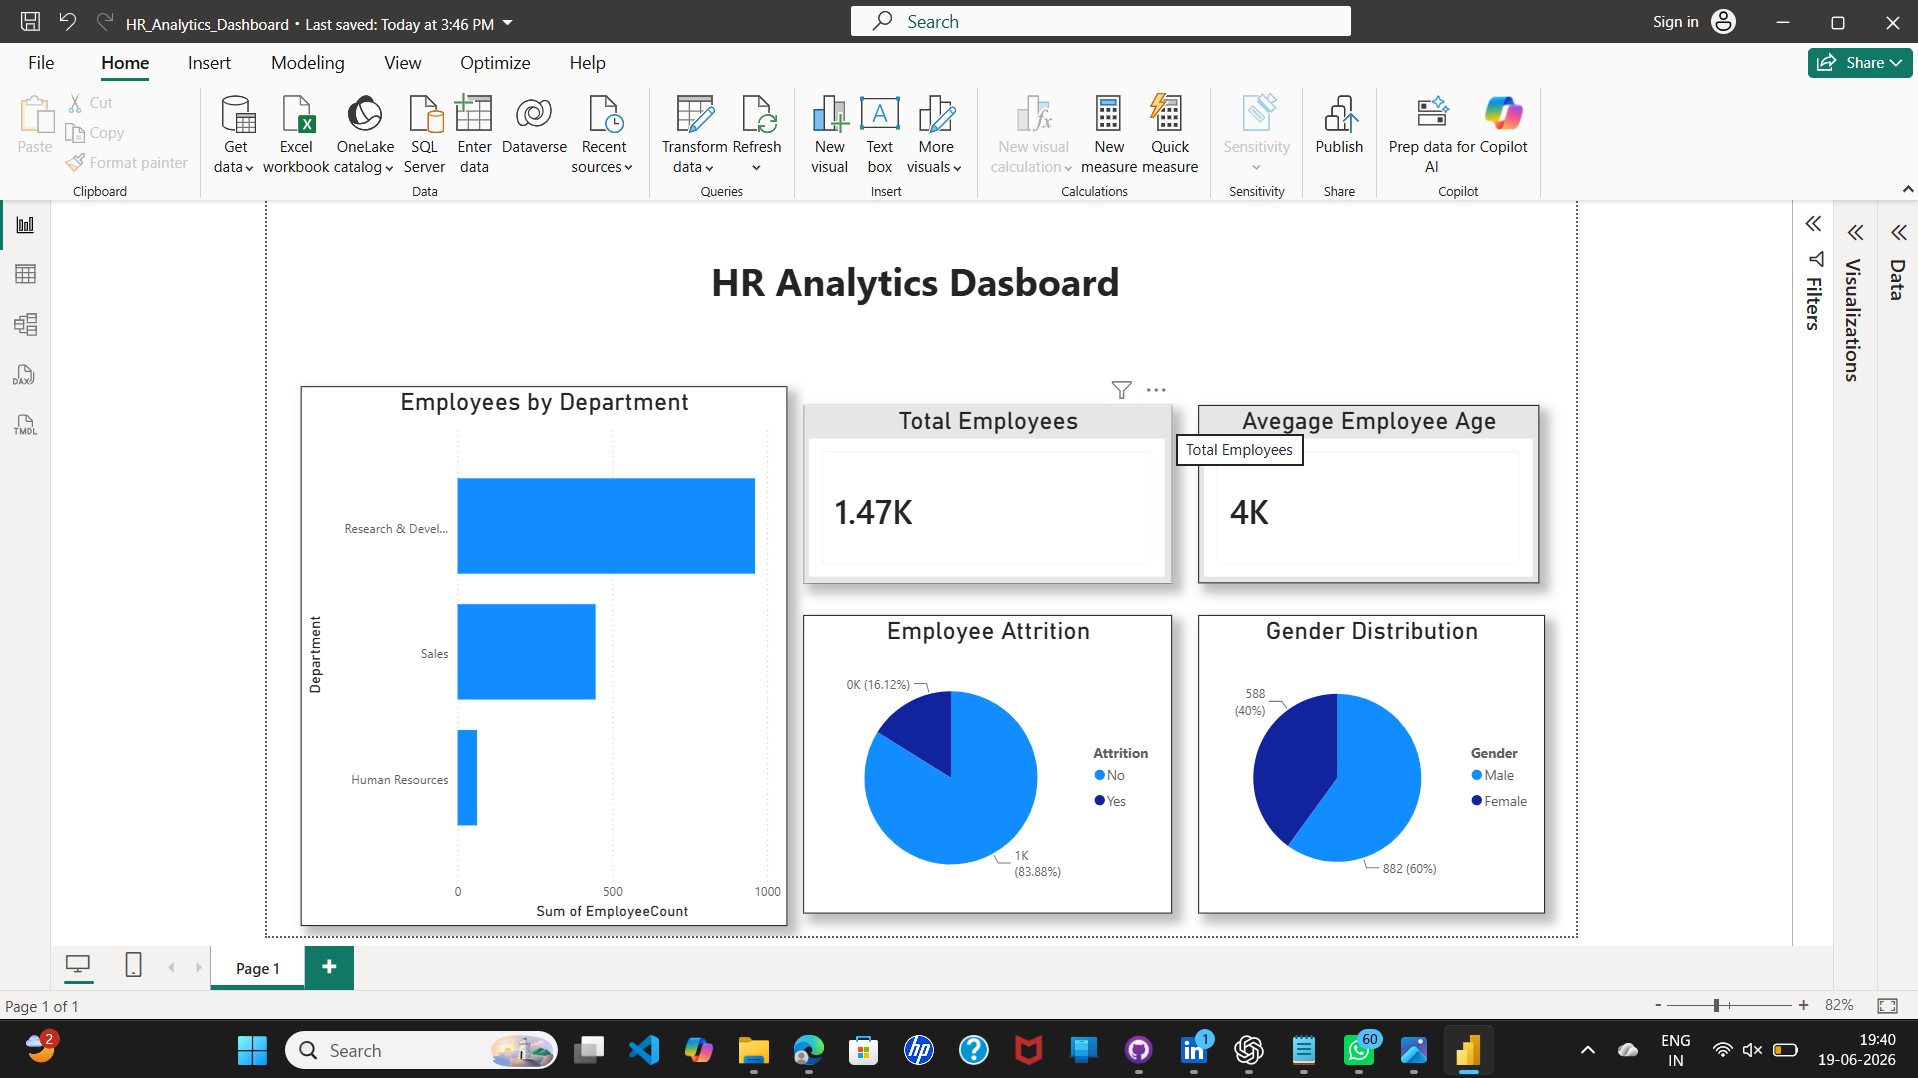

The page's visual inventory and layout, read from the dashboard file:
{"tool":"powerbi","page":{"name":"Page 1","canvas":[1280,720],"ordinal":0},"visuals":[{"type":"pieChart","title":"Gender Distribution","fields":{"Category":["WA_Fn-UseC_-HR-Employee-Attrition.Gender"],"Y":["Sum(WA_Fn-UseC_-HR-Employee-Attrition.EmployeeCount)"]},"box":[911.2,406.2,338.9,292.3],"z":0},{"type":"clusteredBarChart","title":"Employees by Department","fields":{"Category":["WA_Fn-UseC_-HR-Employee-Attrition.Department"],"Y":["Sum(WA_Fn-UseC_-HR-Employee-Attrition.EmployeeCount)"]},"box":[20.6,170.2,476.2,528.3],"z":1000},{"type":"pieChart","title":"Employee Attrition ","fields":{"Category":["WA_Fn-UseC_-HR-Employee-Attrition.Attrition"],"Y":["Sum(WA_Fn-UseC_-HR-Employee-Attrition.EmployeeCount)"]},"box":[524.2,406.2,360.9,292.3],"z":2000},{"type":"textbox","box":[429.5,49.4,690.2,150.9],"z":3000},{"type":"cardVisual","title":"Total Employees","fields":{"Data":["CountNonNull(WA_Fn-UseC_-HR-Employee-Attrition.EmployeeCount)"]},"box":[524.2,200.3,360.9,174.3],"z":4000},{"type":"cardVisual","title":"Avegage Employee Age","fields":{"Data":["Sum(WA_Fn-UseC_-HR-Employee-Attrition.Education)"]},"box":[911.2,200.3,333.4,174.3],"z":5000}]}

Visuals, with their boxes on the page's 1280x720 design canvas (x1, y1, x2, y2). These are canvas units, not pixel positions in the 1918x1078 screenshot, which may show the page scaled, cropped or inside an application window:
"Gender Distribution" pieChart: bbox=(911, 406, 1250, 698)
"Employees by Department" clusteredBarChart: bbox=(21, 170, 497, 698)
"Employee Attrition " pieChart: bbox=(524, 406, 885, 698)
textbox: bbox=(430, 49, 1120, 200)
"Total Employees" cardVisual: bbox=(524, 200, 885, 375)
"Avegage Employee Age" cardVisual: bbox=(911, 200, 1245, 375)
